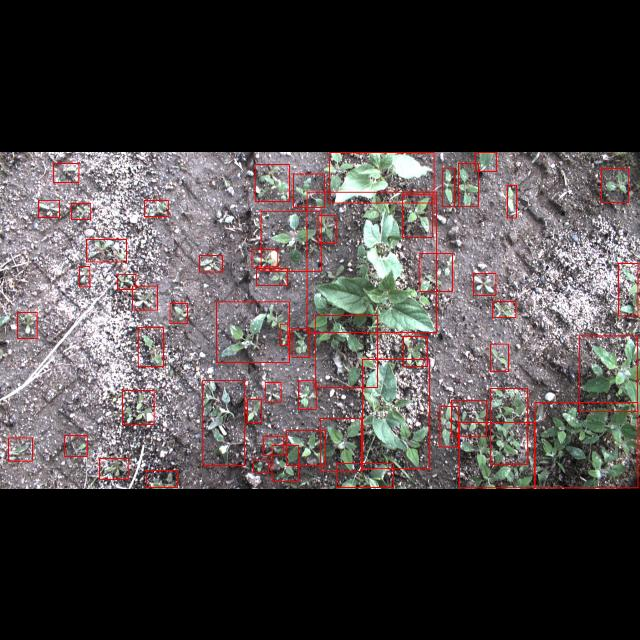crop: (306, 192, 436, 332), (362, 359, 430, 469), (330, 152, 434, 202), (578, 335, 638, 411)
weed: (534, 402, 638, 488), (460, 422, 534, 488), (314, 315, 378, 387), (217, 300, 290, 362), (203, 380, 245, 466), (261, 210, 321, 270), (490, 388, 528, 464), (321, 418, 362, 472), (286, 430, 326, 466), (336, 463, 394, 487), (402, 194, 432, 236), (255, 163, 289, 200), (452, 400, 486, 436), (420, 253, 452, 291), (122, 390, 154, 424), (618, 262, 638, 316), (294, 173, 324, 207), (138, 328, 164, 367), (87, 238, 127, 262), (601, 167, 629, 201), (272, 445, 298, 481), (458, 162, 478, 205), (440, 406, 458, 446), (403, 336, 427, 366), (132, 285, 158, 309), (256, 267, 288, 285), (146, 470, 178, 488), (100, 458, 128, 478), (298, 380, 316, 410), (8, 438, 32, 460), (292, 328, 310, 357), (17, 312, 37, 338), (318, 215, 336, 243), (490, 343, 508, 371), (474, 273, 496, 295), (64, 436, 88, 456), (54, 162, 78, 182), (442, 167, 454, 205), (144, 198, 168, 216), (252, 250, 278, 266), (492, 301, 516, 317), (170, 302, 188, 322), (264, 436, 284, 454), (476, 152, 496, 170), (39, 200, 60, 217), (200, 255, 222, 271), (246, 400, 262, 422), (71, 203, 91, 219), (265, 382, 281, 402), (118, 273, 136, 289), (508, 185, 516, 218), (78, 266, 90, 286), (280, 323, 288, 345), (254, 460, 268, 472)
